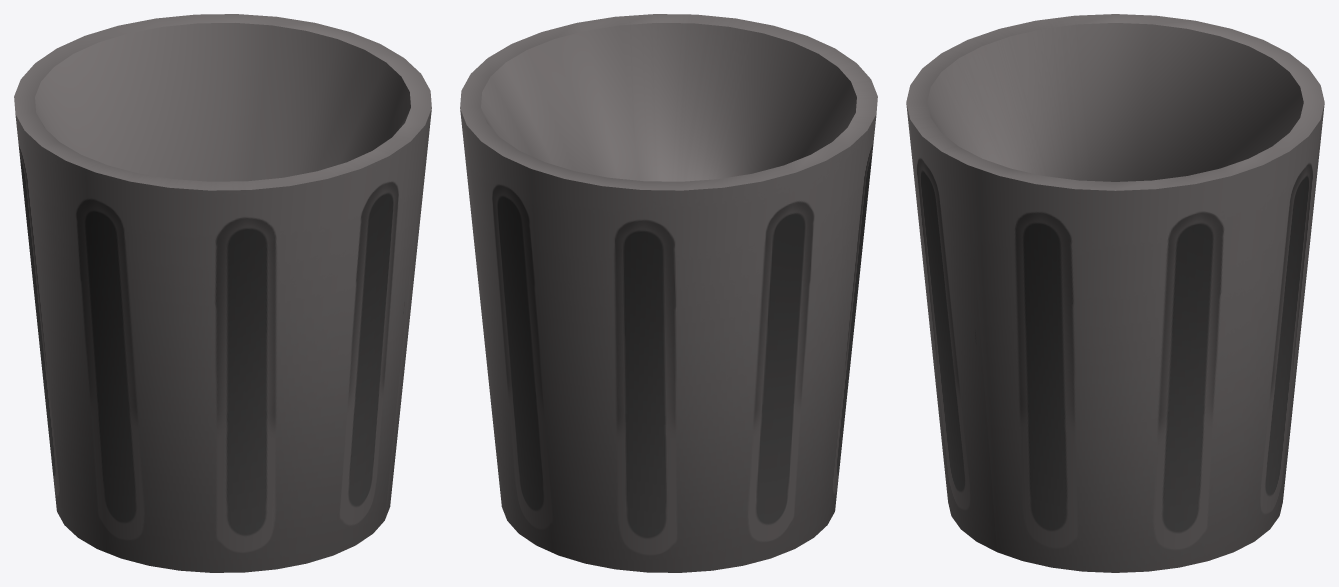
File: trash_can_open.fbx
3 views of the same model, side by side, from view 1: azimuth 30°, elevation 25°; view 2: azimuth 150°, elevation 25°; view 3: azimuth 270°, elevation 25° (orthographic).
Parts seen in each view (by area): view 1: Trash Can; view 2: Trash Can; view 3: Trash Can.
Boxes of the visible parts, x1,y1,x2,y2 form: Trash Can: (14, 14, 431, 572); Trash Can: (460, 14, 877, 572); Trash Can: (906, 14, 1324, 572).
Bounding box in the file's own units: 85.38 × 90 × 85.38.
